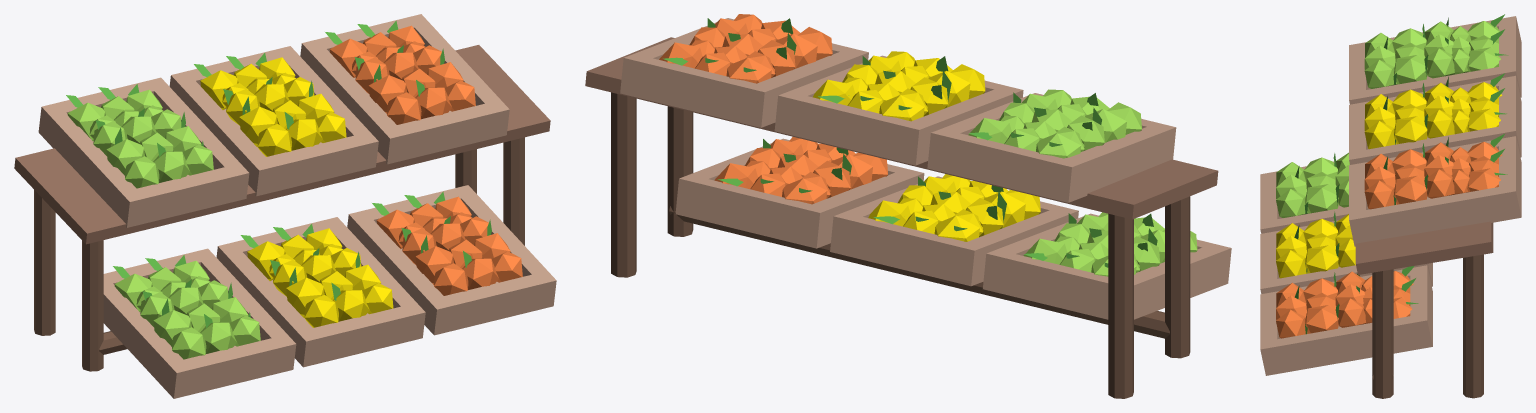
The model's file is bazaar-item-05.obj.
3 renders of one model, left to right at view 1: azimuth 30°, elevation 25°; view 2: azimuth 150°, elevation 25°; view 3: azimuth 270°, elevation 25°, orthographic. The views are drawn at different scales.
Visible parts, largest first — view 1: bazaar-item-05; view 2: bazaar-item-05; view 3: bazaar-item-05.
Boxes of the visible parts, x1,y1,x2,y2 form: bazaar-item-05: [14, 14, 556, 398]; bazaar-item-05: [585, 14, 1231, 398]; bazaar-item-05: [1260, 14, 1521, 398].
Bounding box in the file's own units: 1.88 × 0.8361 × 0.9728.
